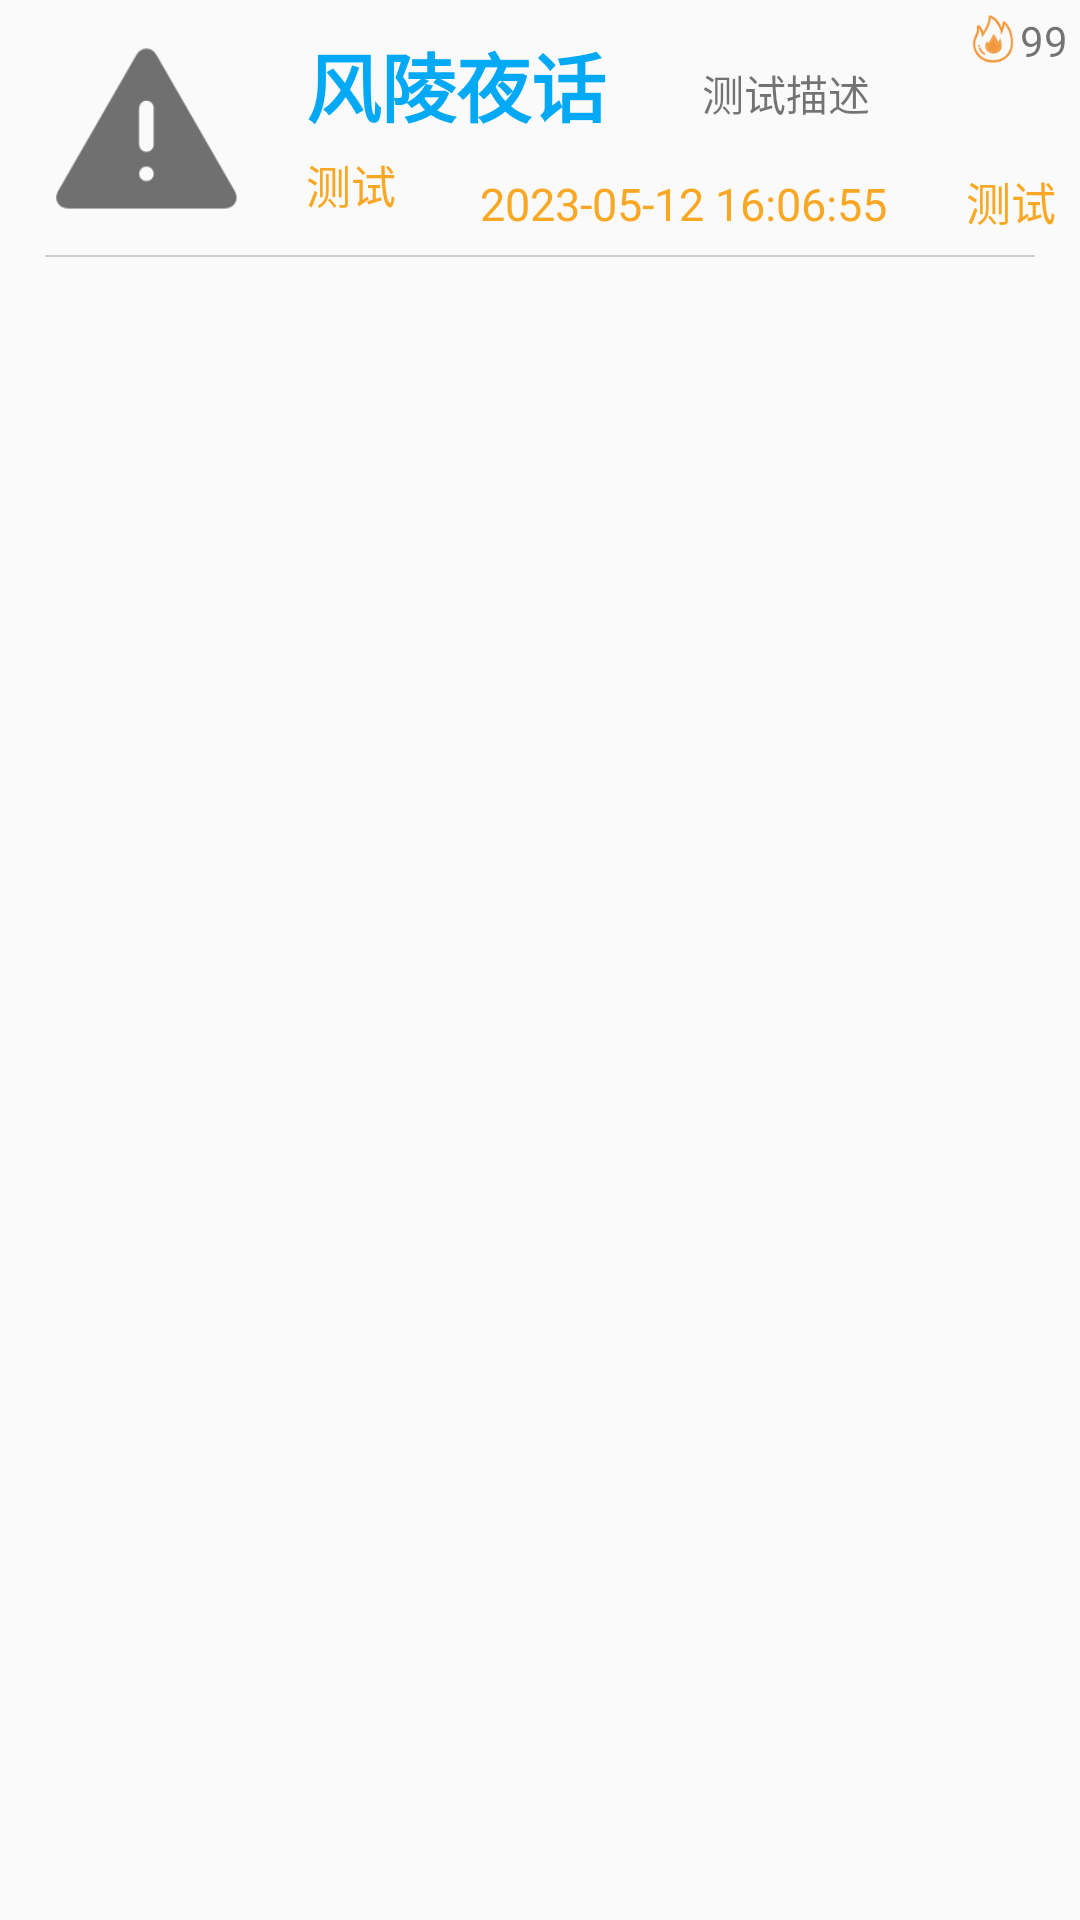

Icons on this 1080*1920 Android screen, each with the point to tap as (x,y):
hot: (993,39)
warning: (146,128)
